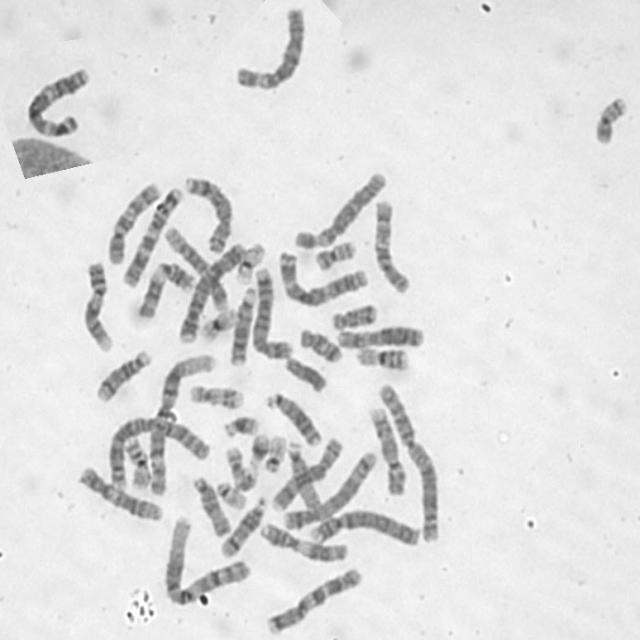A1: (146, 350, 217, 498), (161, 513, 252, 607)
A2: (374, 381, 442, 544), (102, 411, 212, 492)
A3: (274, 248, 369, 308), (22, 63, 91, 140)
B4: (174, 239, 246, 345), (305, 506, 421, 547)
B5: (279, 446, 378, 532), (250, 264, 294, 360)
C10: (104, 177, 162, 267), (371, 195, 413, 296)
C11: (255, 520, 349, 564), (133, 258, 196, 320)
C12: (163, 225, 230, 312), (75, 462, 164, 523)
C6: (291, 168, 389, 251), (232, 4, 306, 92)
C7: (261, 564, 364, 636), (119, 182, 184, 288)
C8: (269, 434, 344, 512), (366, 402, 408, 496)
C9: (180, 173, 236, 252), (79, 258, 115, 354)
D13: (263, 390, 324, 449), (227, 283, 258, 368)
D14: (92, 347, 152, 404), (217, 494, 268, 559)
D15: (284, 438, 322, 511), (190, 473, 232, 537)
E16: (351, 342, 412, 372), (122, 435, 152, 490)
E17: (185, 381, 245, 411), (223, 445, 260, 492)
E18: (296, 325, 345, 364), (328, 300, 380, 332)
F19: (195, 304, 238, 343), (232, 239, 266, 286)
F20: (591, 93, 630, 146), (312, 236, 359, 273)
G21: (220, 411, 260, 439), (246, 429, 270, 468)
G22: (260, 432, 288, 475), (213, 478, 248, 511)
X: (333, 322, 425, 351)
Y: (282, 352, 329, 396)
